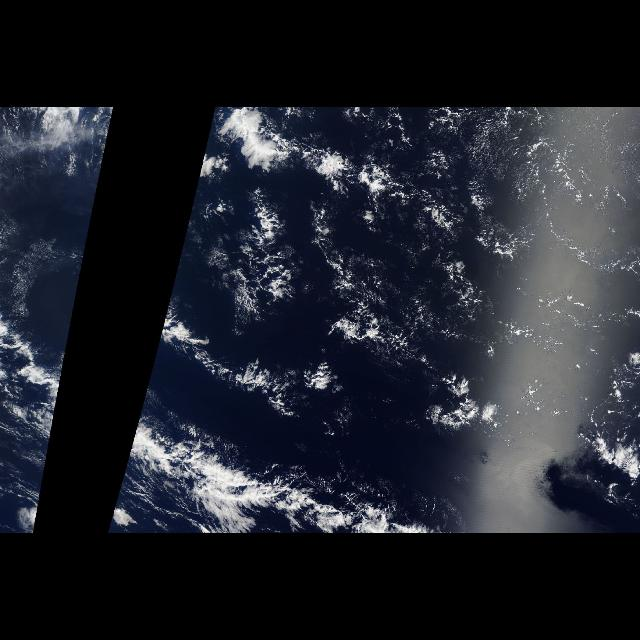Fish: (108, 367, 468, 533), (228, 121, 554, 299), (42, 368, 66, 484)
Gravel: (219, 107, 631, 290)
